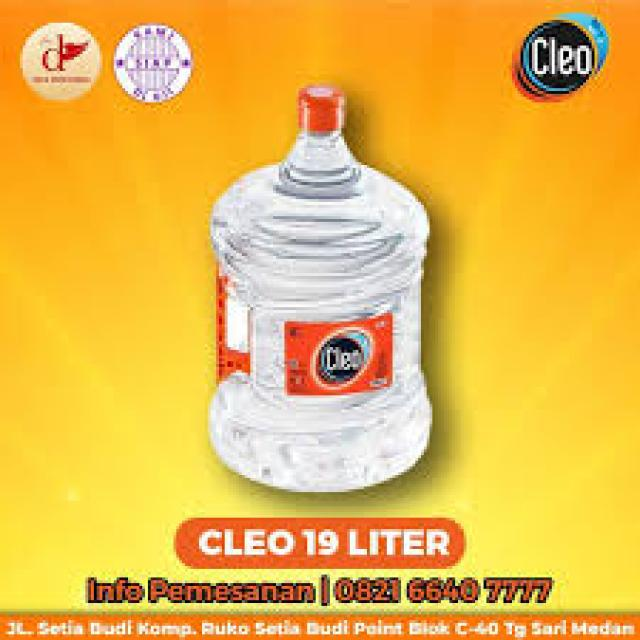Galon: (205, 83, 432, 492)
